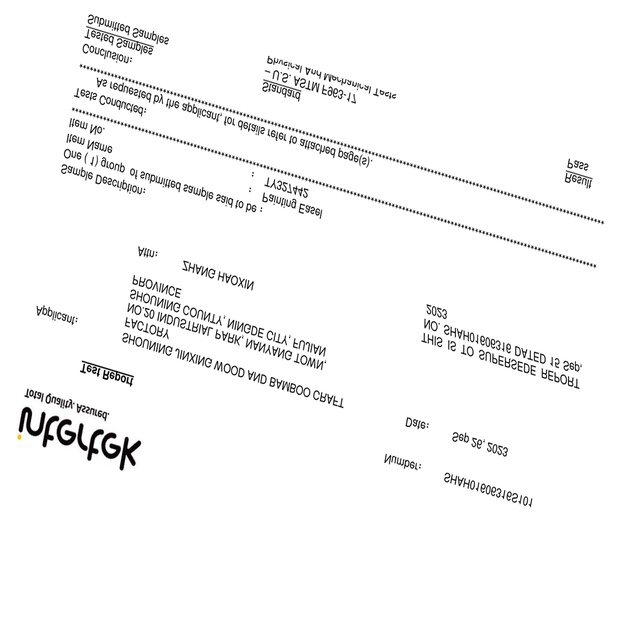intertek: (8, 383, 153, 484)
